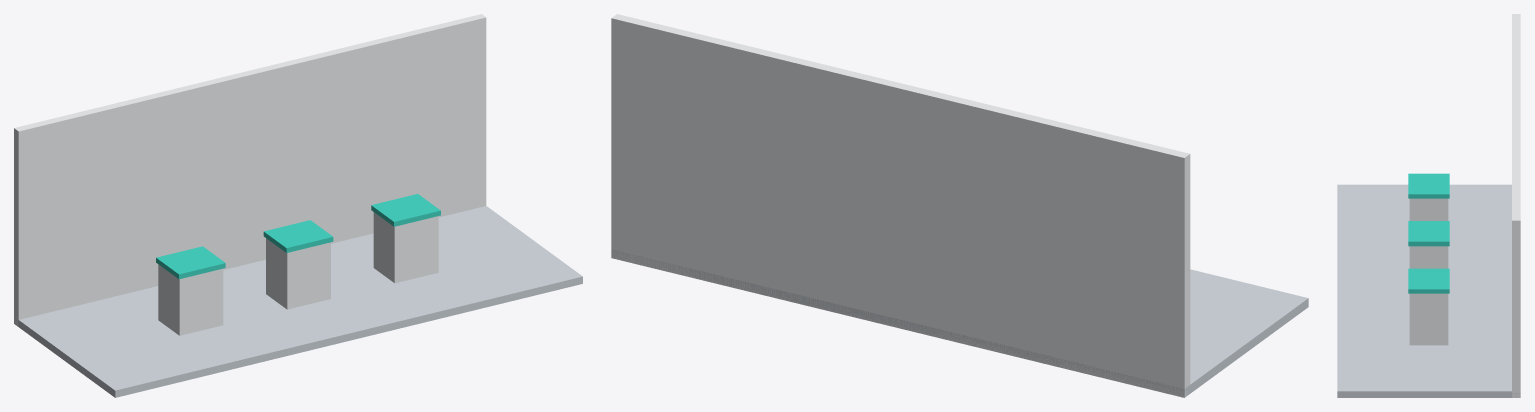
3 views of the same model, side by side, from view 1: azimuth 30°, elevation 25°; view 2: azimuth 150°, elevation 25°; view 3: azimuth 270°, elevation 25° (orthographic). The views are drawn at different scales.
Visible parts, largest first — view 1: Exhibition Booth Concept; view 2: Exhibition Booth Concept; view 3: Exhibition Booth Concept.
Boxes of the visible parts, x1=… form: Exhibition Booth Concept: x1=14, y1=14, x2=582, y2=397; Exhibition Booth Concept: x1=611, y1=14, x2=1308, y2=397; Exhibition Booth Concept: x1=1337, y1=14, x2=1520, y2=397.
Bounding box in the file's own units: 8 × 3.2 × 3.
